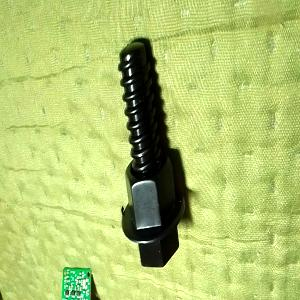parafuso: (117, 40, 185, 269)
